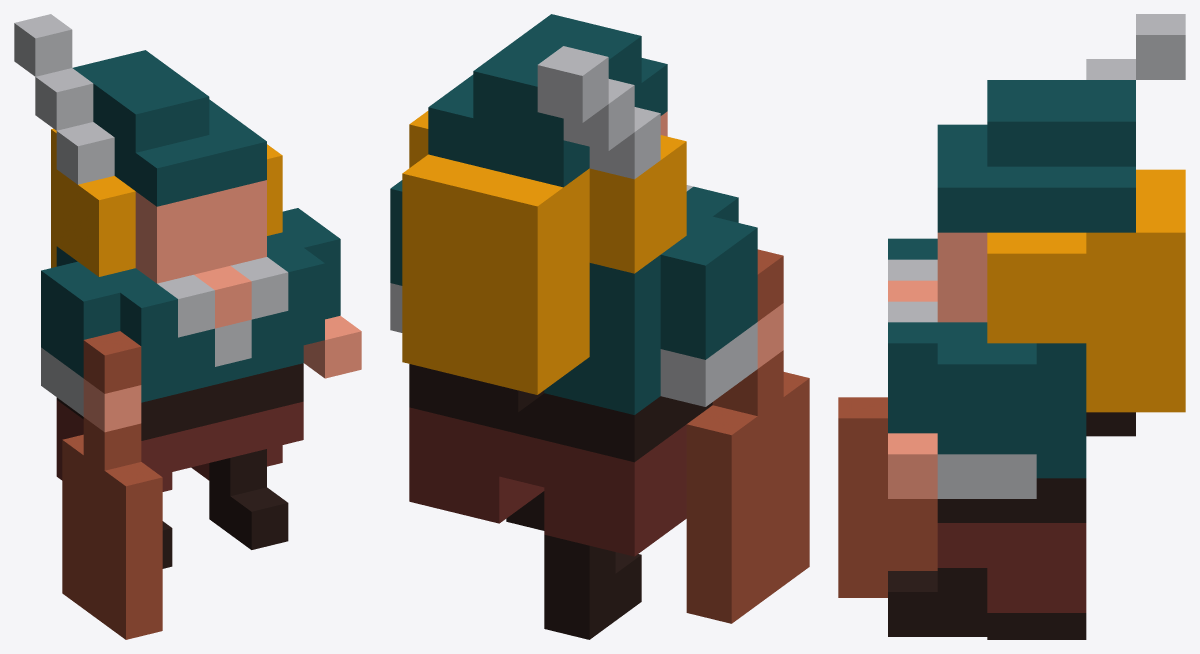
File: bard_walk_1.obj
3 renders of one model, left to right at view 1: azimuth 30°, elevation 25°; view 2: azimuth 150°, elevation 25°; view 3: azimuth 270°, elevation 25°, orthographic. The views are drawn at different scales.
Size of the model in its own units: 0.7 by 1.3 by 0.7.
1 material, 1 textured.
